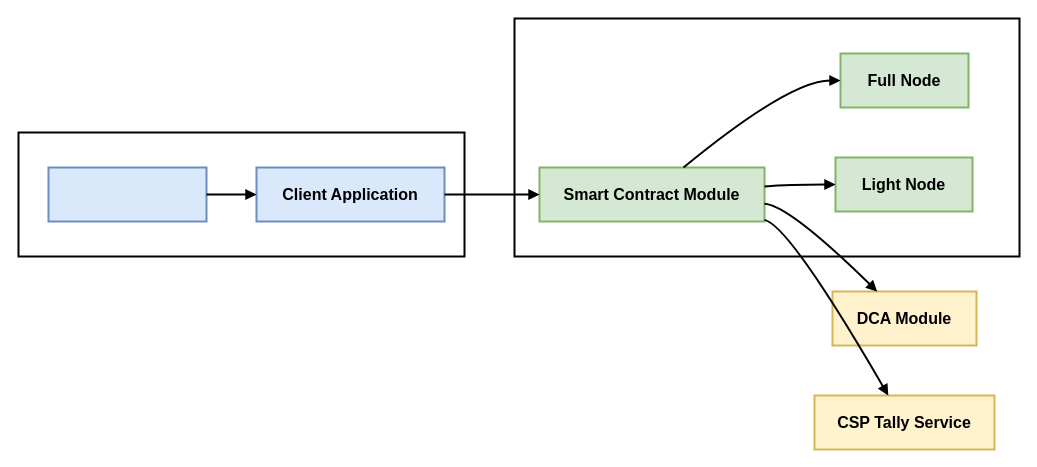
This 1037x467 diagram has some shape labels left out. Each missing label, with the box of its shape:
Blockchain Network: (513, 17, 1020, 257)
Client Side: (17, 131, 465, 257)
User Terminal: (47, 166, 207, 222)
